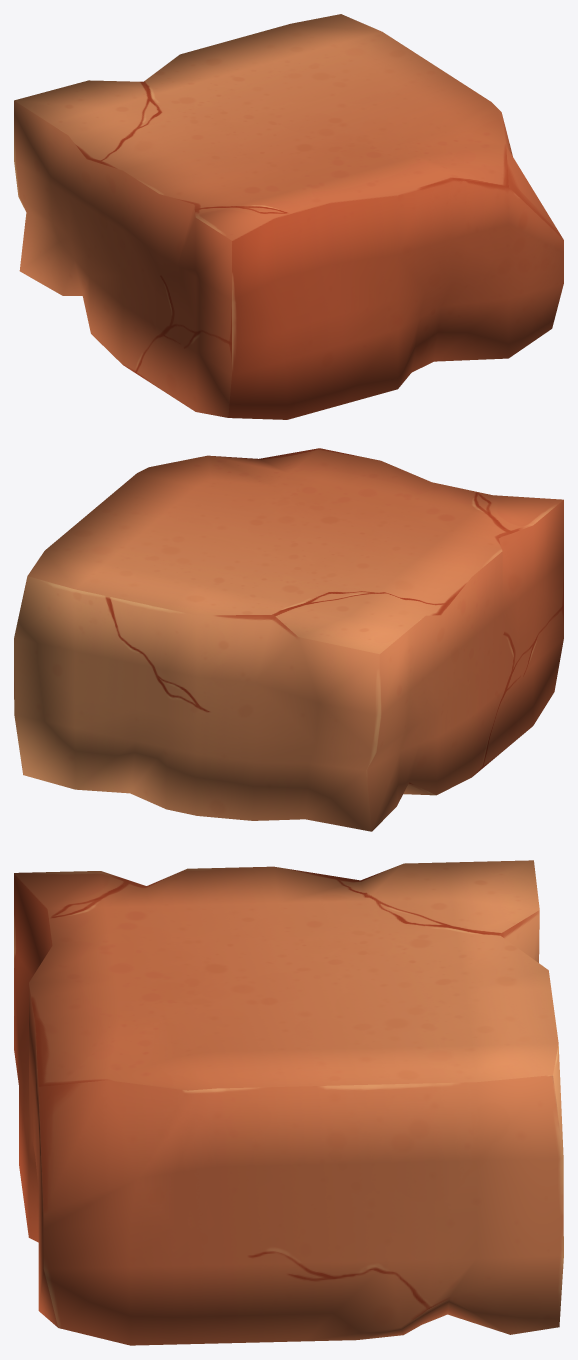
Rendered from platform.fbx.
3 renders of one model, top to bottom at view 1: azimuth 30°, elevation 25°; view 2: azimuth 150°, elevation 25°; view 3: azimuth 270°, elevation 25°, orthographic. The views are drawn at different scales.
Parts seen in each view (by area): view 1: Cube.057; view 2: Cube.057; view 3: Cube.057.
Boxes of the visible parts, box(x1,y1,x2,y2) form: Cube.057: box(14, 14, 563, 419); Cube.057: box(14, 448, 563, 831); Cube.057: box(14, 860, 563, 1345).
Size of the model in its own units: 140 by 72.51 by 140.
